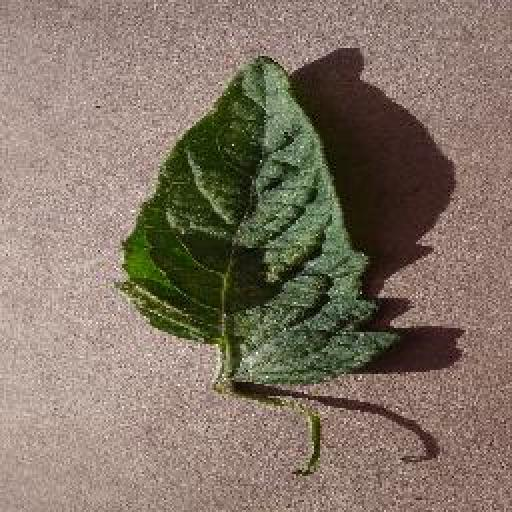Spider Mites: (122, 55, 394, 385)
